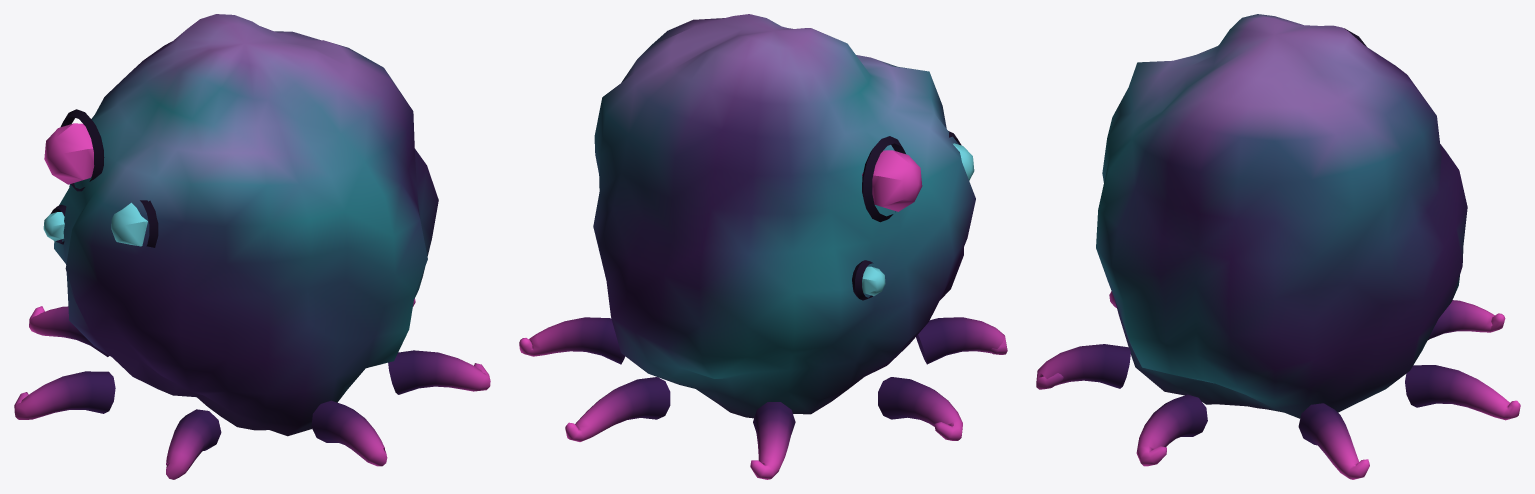
The model's file is Mimic.fbx.
The picture shows the model from 3 angles, left to right: view 1: azimuth 30°, elevation 25°; view 2: azimuth 150°, elevation 25°; view 3: azimuth 270°, elevation 25°; orthographic projection.
Visible parts, largest first — view 1: Body, Tendrils, Eyes; view 2: Body, Tendrils, Eyes; view 3: Body, Tendrils.
Boxes of the visible parts, x1,y1,x2,y2 form: Body: (54,14,438,436); Tendrils: (14,298,490,479); Eyes: (43,109,158,247); Body: (593,14,975,418); Tendrils: (519,317,1007,479); Eyes: (852,131,974,300); Body: (1096,14,1467,418); Tendrils: (1036,291,1520,479).
Bounding box in the file's own units: 0.9087 × 0.7522 × 0.9037.
